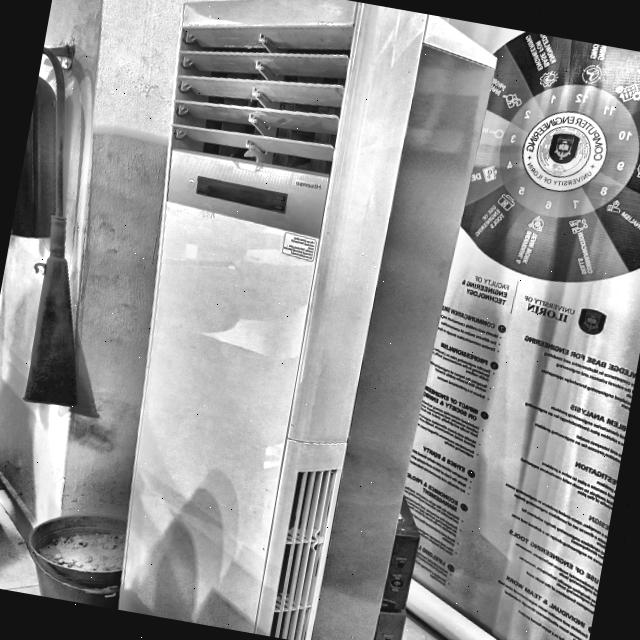air condition: (85, 0, 518, 640)
